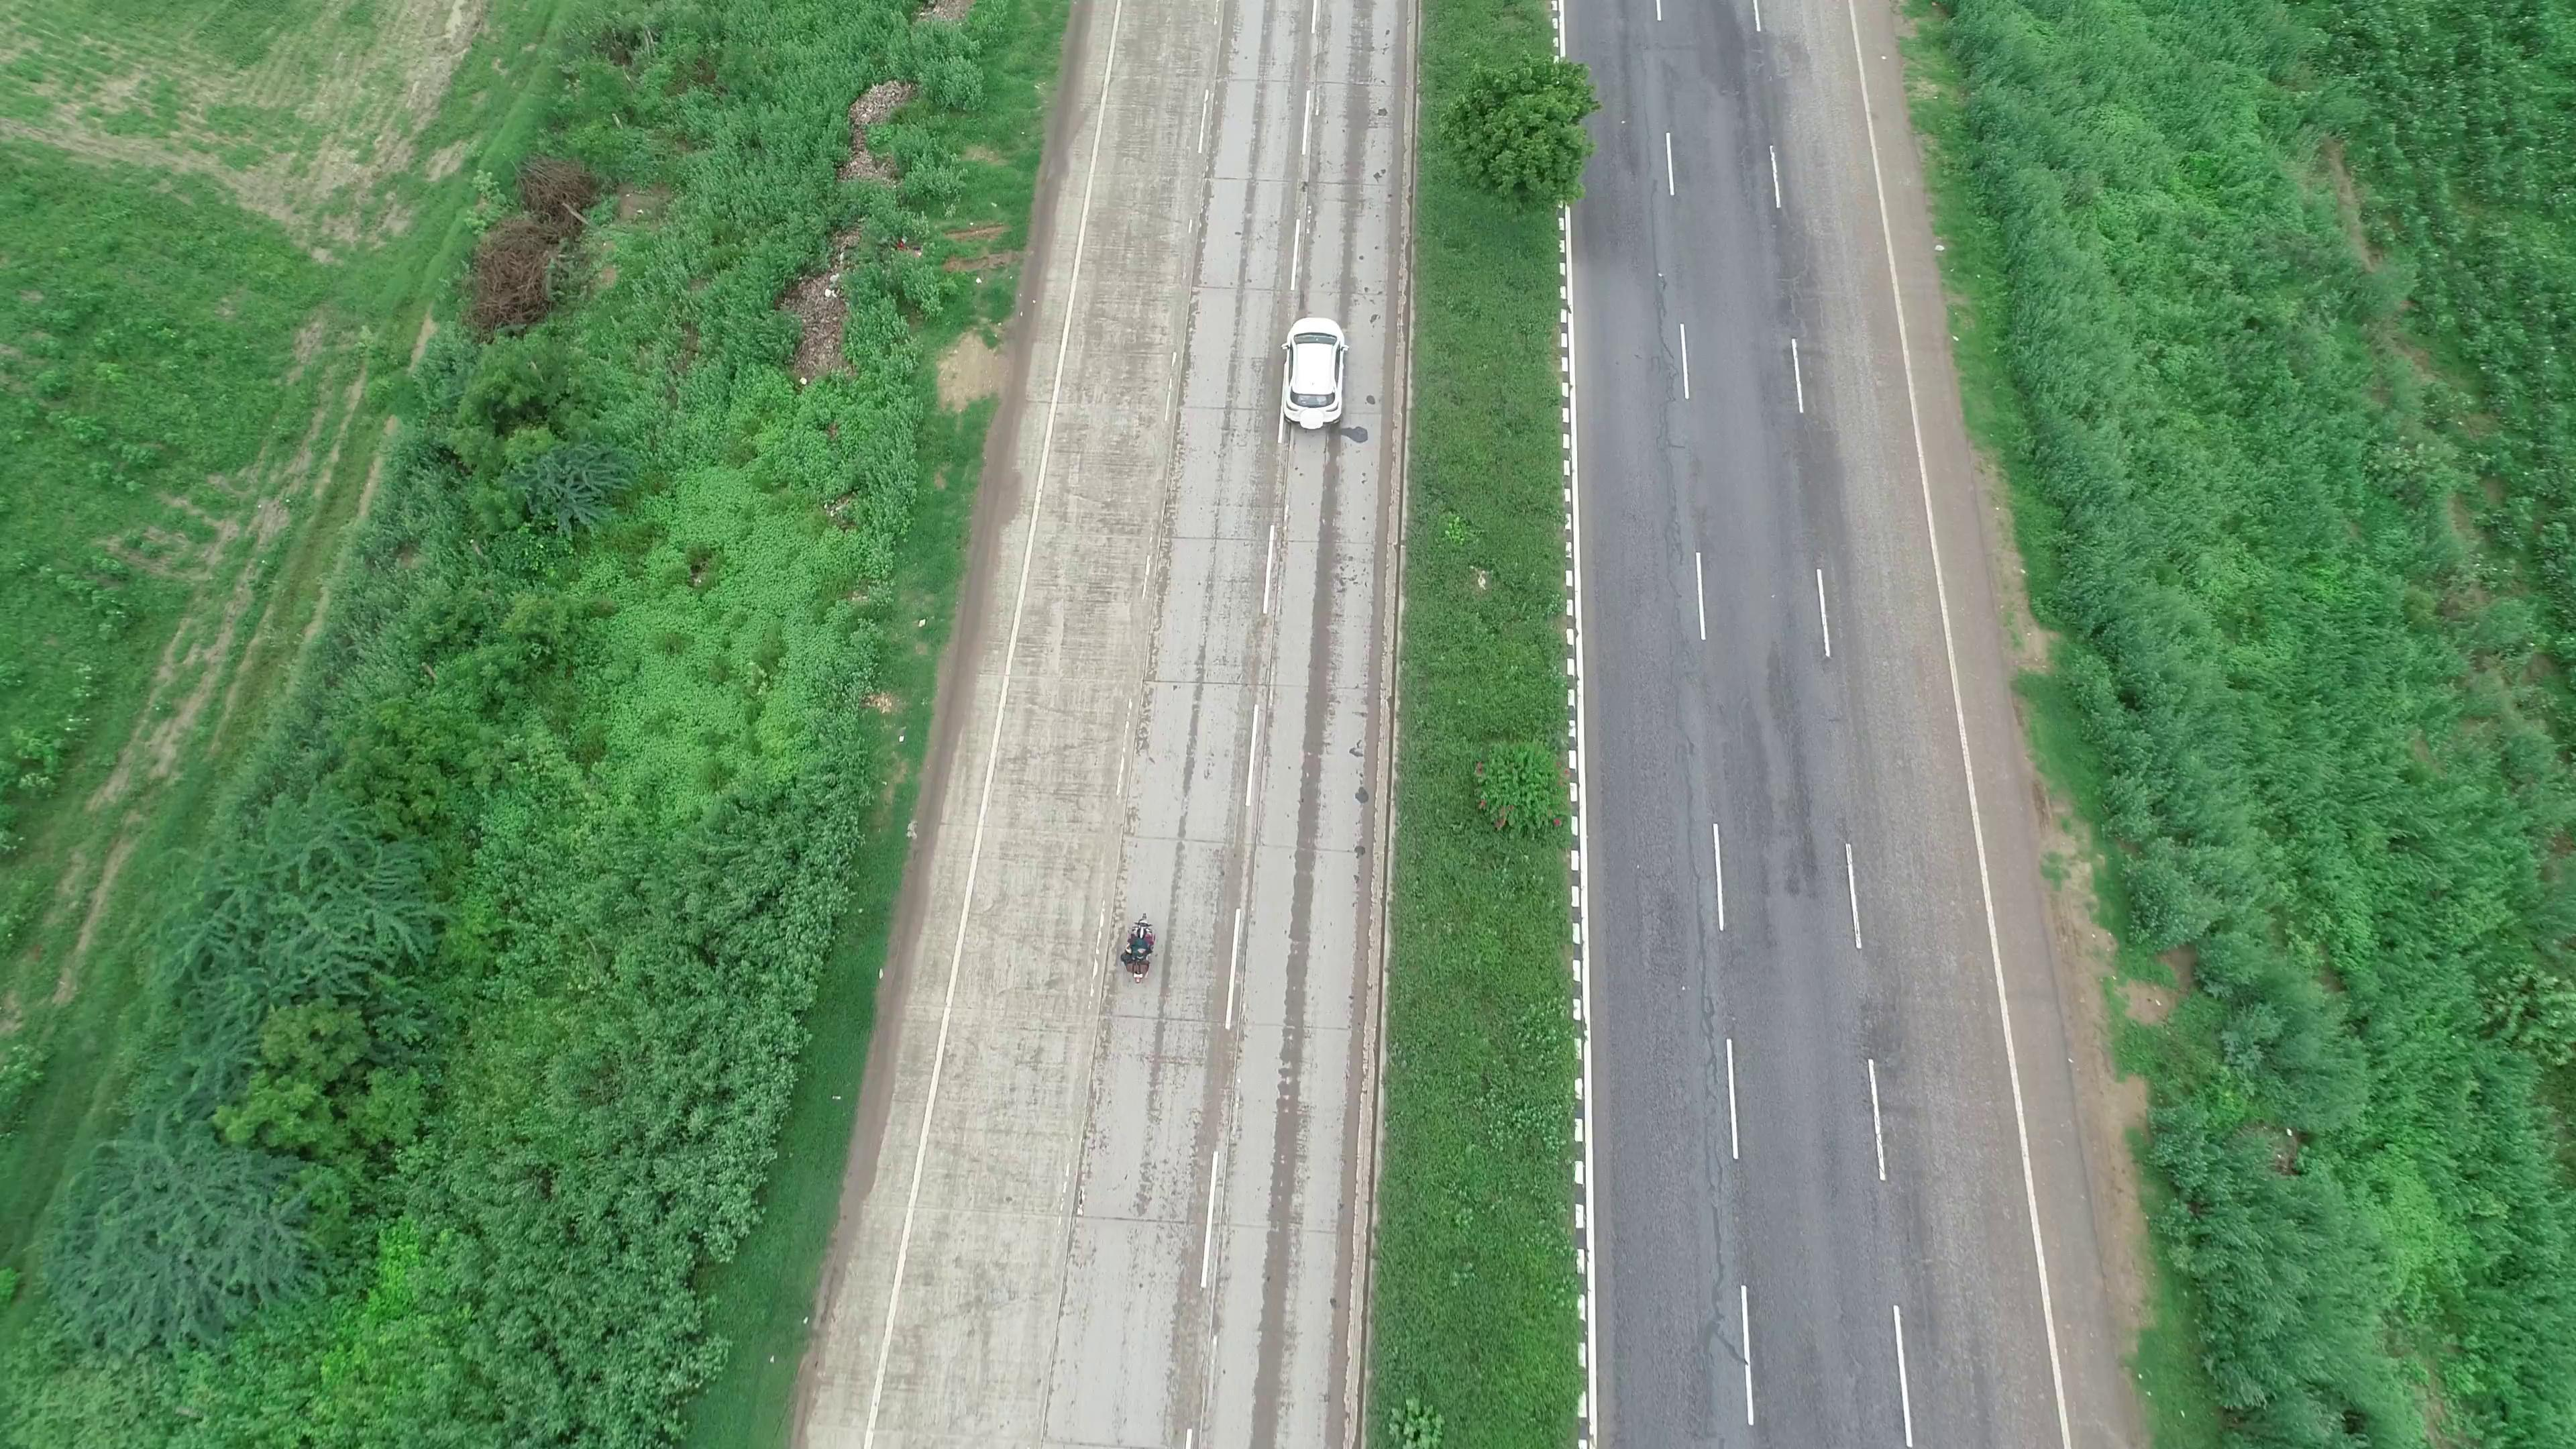Longitudinal_cracks: (1663, 747, 1737, 1269), (1629, 50, 1691, 575)
